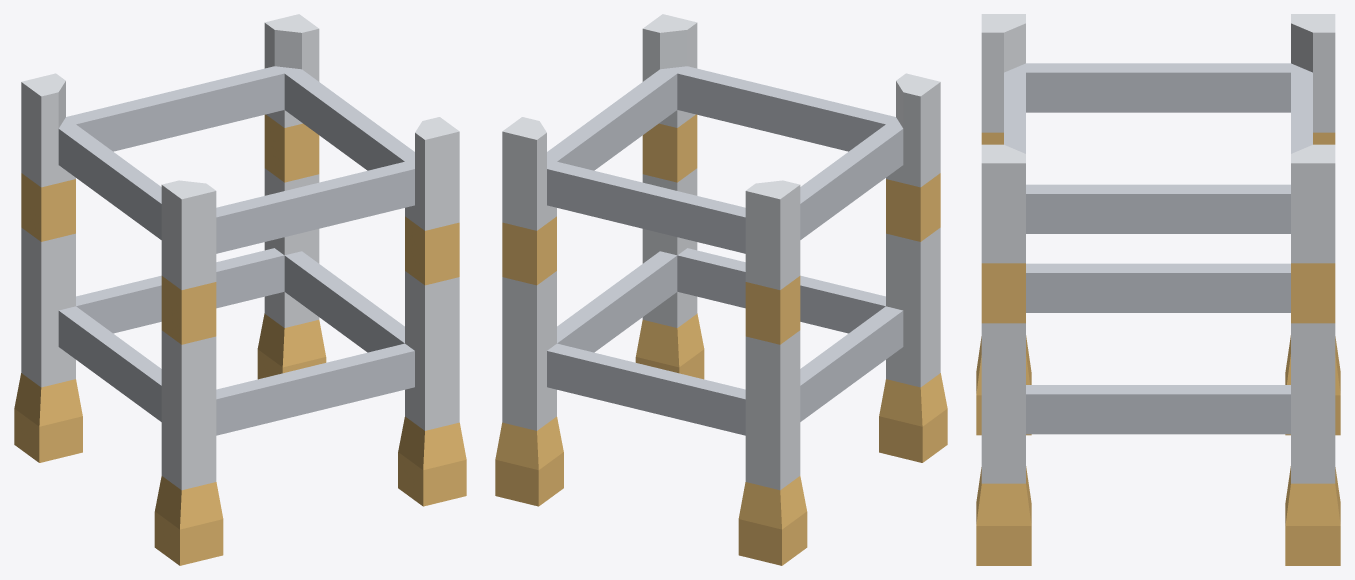
The model's file is supports_high.glb.
3 views of the same model, side by side, from view 1: azimuth 30°, elevation 25°; view 2: azimuth 150°, elevation 25°; view 3: azimuth 270°, elevation 25° (orthographic). The views are drawn at different scales.
Visible parts, largest first — view 1: supports_high; view 2: supports_high; view 3: supports_high.
Boxes of the visible parts, left/top/right/bottom form: supports_high: left=14, top=14, right=466, bottom=565; supports_high: left=495, top=14, right=947, bottom=565; supports_high: left=976, top=14, right=1340, bottom=565.
Size of the model in its own units: 0.825 by 1 by 0.825.
